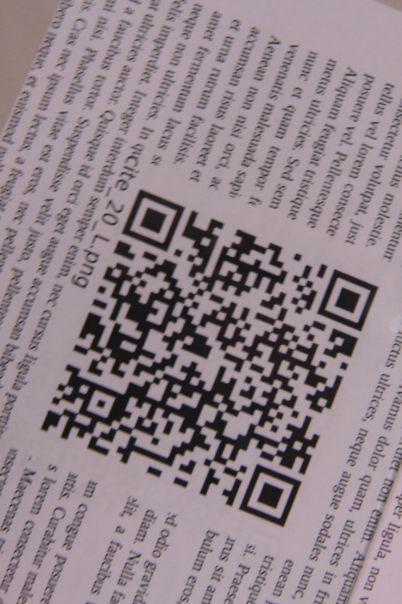qr_code: (40, 188, 379, 529)
